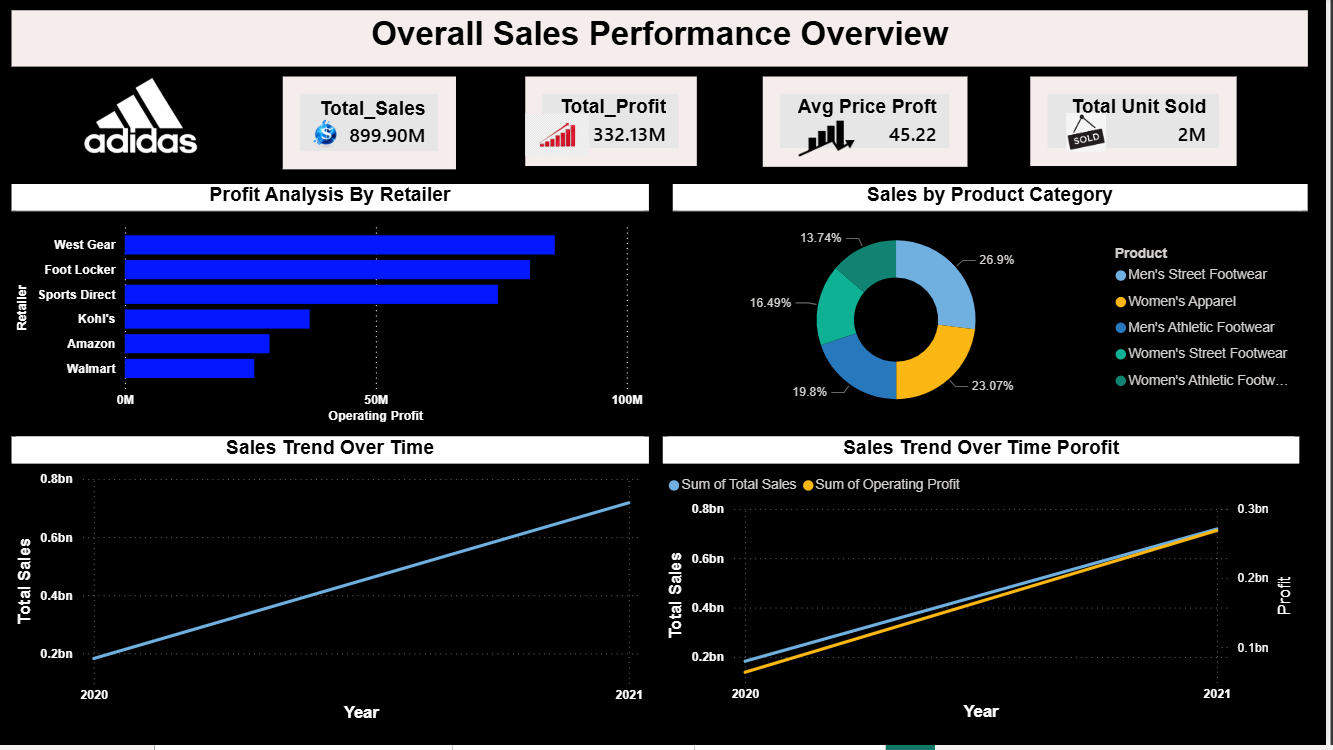

This screenshot's page, from the dashboard's own definition file:
{"tool":"powerbi","page":{"name":"Overall Sales Performance OverView","canvas":[1280,720],"ordinal":0},"visuals":[{"type":"cardVisual","title":"Total Sales","fields":{"Data":["Data Sales Adidas.Total_Sales"]},"box":[274.1,75,167.4,89.5],"z":0},{"type":"cardVisual","title":"Total Profit","fields":{"Data":["Data Sales Adidas.Total_Profit"]},"box":[507.9,75,165.9,86.6],"z":1000},{"type":"cardVisual","title":"Average Price per Unit","fields":{"Data":["Data Sales Adidas.Avg Price Proft"]},"box":[737.1,74.8,197.9,86.9],"z":2000},{"type":"cardVisual","title":"Total Unit Sold","fields":{"Data":["Data Sales Adidas.Total Unit Sold"]},"box":[995.5,75,199.1,86.6],"z":3000},{"type":"clusteredBarChart","title":"Profit Analysis By Retailer","fields":{"Category":["Data Sales Adidas.Retailer"],"Y":["Sum(Data Sales Adidas.Operating Profit)"]},"box":[12.5,178.8,615,233.8],"z":4000},{"type":"lineChart","title":"Sales Trend Over Time","fields":{"Category":["Data Sales Adidas.Invoice Date.Variation.Date Hierarchy.Year","Data Sales Adidas.Invoice Date.Variation.Date Hierarchy.Quarter","Data Sales Adidas.Invoice Date.Variation.Date Hierarchy.Month"],"Y":["Sum(Data Sales Adidas.Total Sales)"]},"box":[12.5,422.5,615,278.8],"z":5000},{"type":"donutChart","title":"Sales by Product Category","fields":{"Category":["Data Sales Adidas.Product"],"Y":["Sum(Data Sales Adidas.Total Sales)"]},"box":[650,178.8,612.5,233.8],"z":6000},{"type":"textbox","box":[12.1,10.9,1251.1,54.3],"z":7000},{"type":"lineChart","title":"Sales Trend Over Time Porofit","fields":{"Category":["Data Sales Adidas.Invoice Date.Variation.Date Hierarchy.Year","Data Sales Adidas.Invoice Date.Variation.Date Hierarchy.Quarter","Data Sales Adidas.Invoice Date.Variation.Date Hierarchy.Month"],"Y":["Sum(Data Sales Adidas.Total Sales)"],"Y2":["Sum(Data Sales Adidas.Operating Profit)"]},"box":[640.6,422.7,614.6,278.5],"z":8000},{"type":"image","box":[0,46.2,274.1,145.7],"z":9000},{"type":"image","box":[273.9,109.8,83.2,42.2],"z":10000},{"type":"image","box":[507.9,109.8,61.5,42.2],"z":10002},{"type":"image","box":[751.6,117,94.1,35],"z":10003},{"type":"image","box":[982,109.8,133.9,37.4],"z":10004}]}

Visuals, with their boxes in screenshot pixels (x1, y1, x2, y2), scaled from the page's 1280x720 canvas onto the 1333x750 screenshot:
"Total Sales" cardVisual: (x1=285, y1=78, x2=460, y2=171)
"Total Profit" cardVisual: (x1=529, y1=78, x2=702, y2=168)
"Average Price per Unit" cardVisual: (x1=768, y1=78, x2=974, y2=168)
"Total Unit Sold" cardVisual: (x1=1037, y1=78, x2=1244, y2=168)
"Profit Analysis By Retailer" clusteredBarChart: (x1=13, y1=186, x2=653, y2=430)
"Sales Trend Over Time" lineChart: (x1=13, y1=440, x2=653, y2=731)
"Sales by Product Category" donutChart: (x1=677, y1=186, x2=1315, y2=430)
textbox: (x1=13, y1=11, x2=1316, y2=68)
"Sales Trend Over Time Porofit" lineChart: (x1=667, y1=440, x2=1307, y2=730)
image: (x1=0, y1=48, x2=285, y2=200)
image: (x1=285, y1=114, x2=372, y2=158)
image: (x1=529, y1=114, x2=593, y2=158)
image: (x1=783, y1=122, x2=881, y2=158)
image: (x1=1023, y1=114, x2=1162, y2=153)
